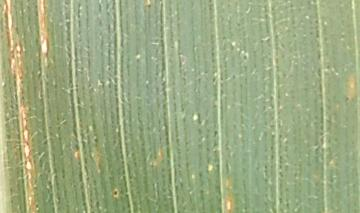tarspot: (113, 190, 118, 196)
